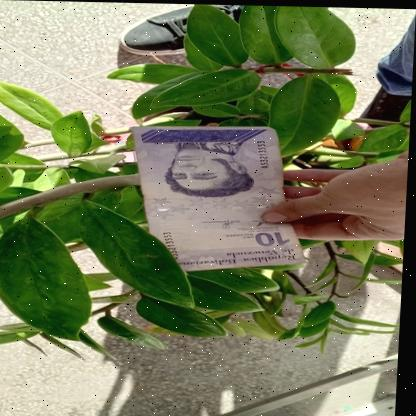ten-front-vef: (124, 124, 315, 281)
